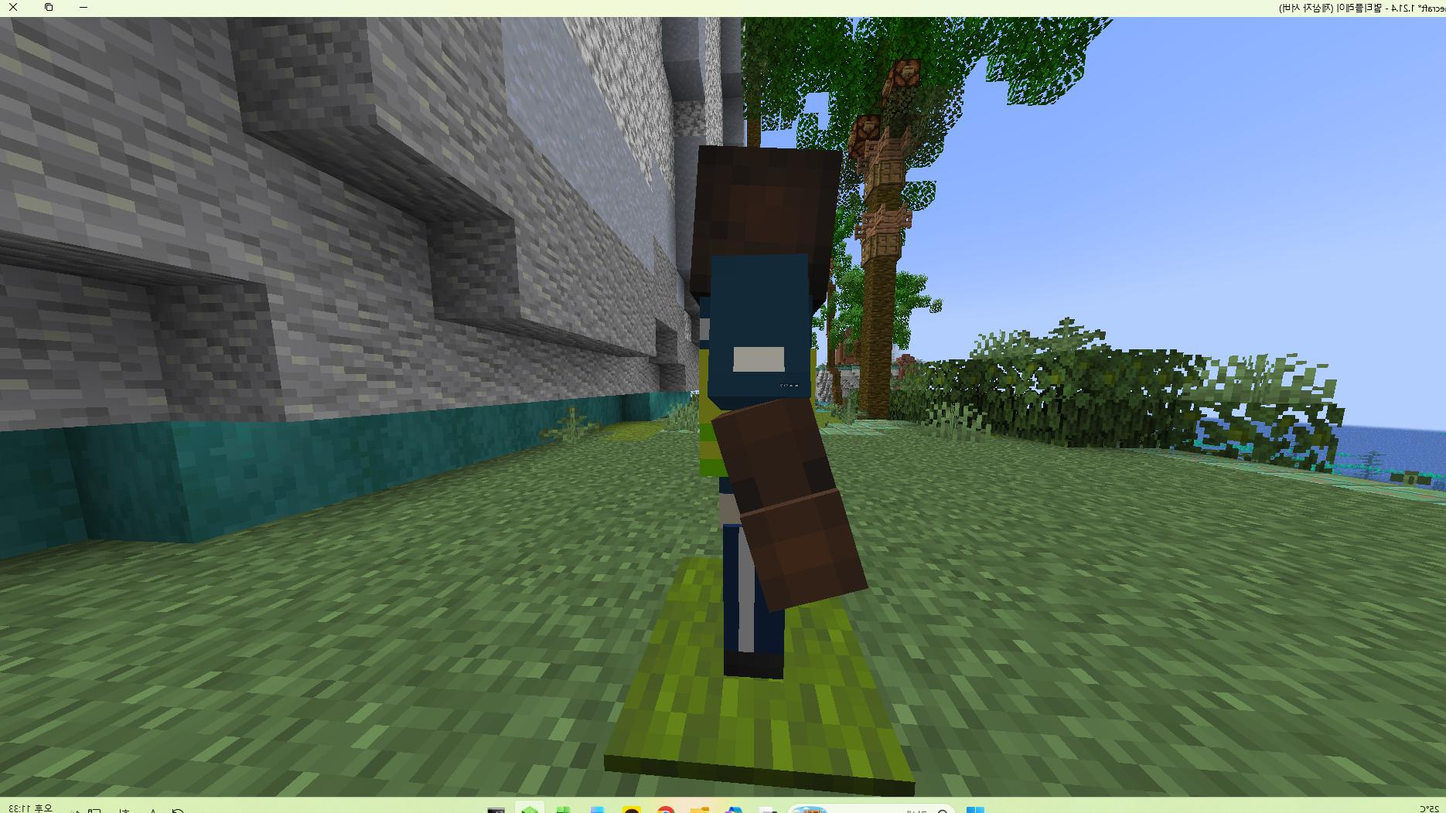Guardian: (691, 146, 868, 679)
